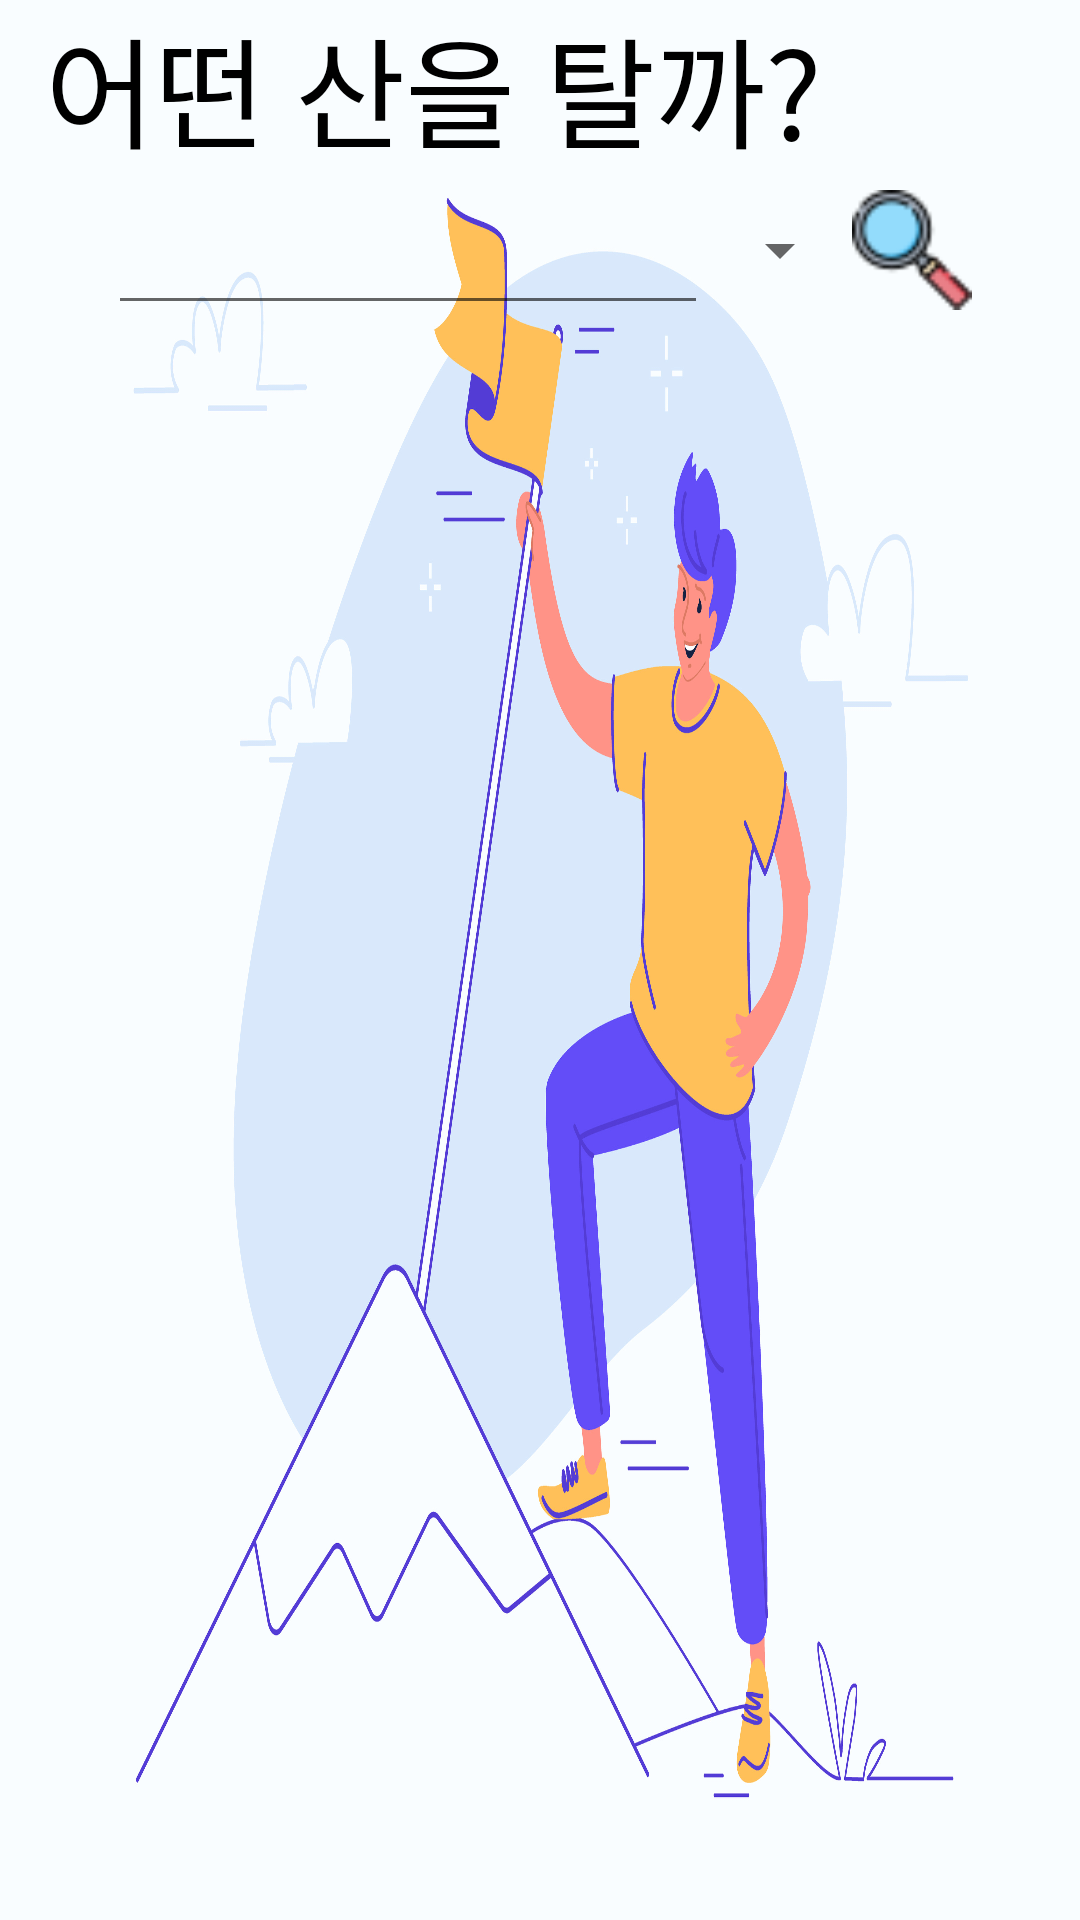

Where icons sit on this 1080 × 1920 app screen, as (x1, y1, x2, y2):
search: (852, 190, 972, 310)
